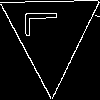L: (25, 9, 66, 39)
